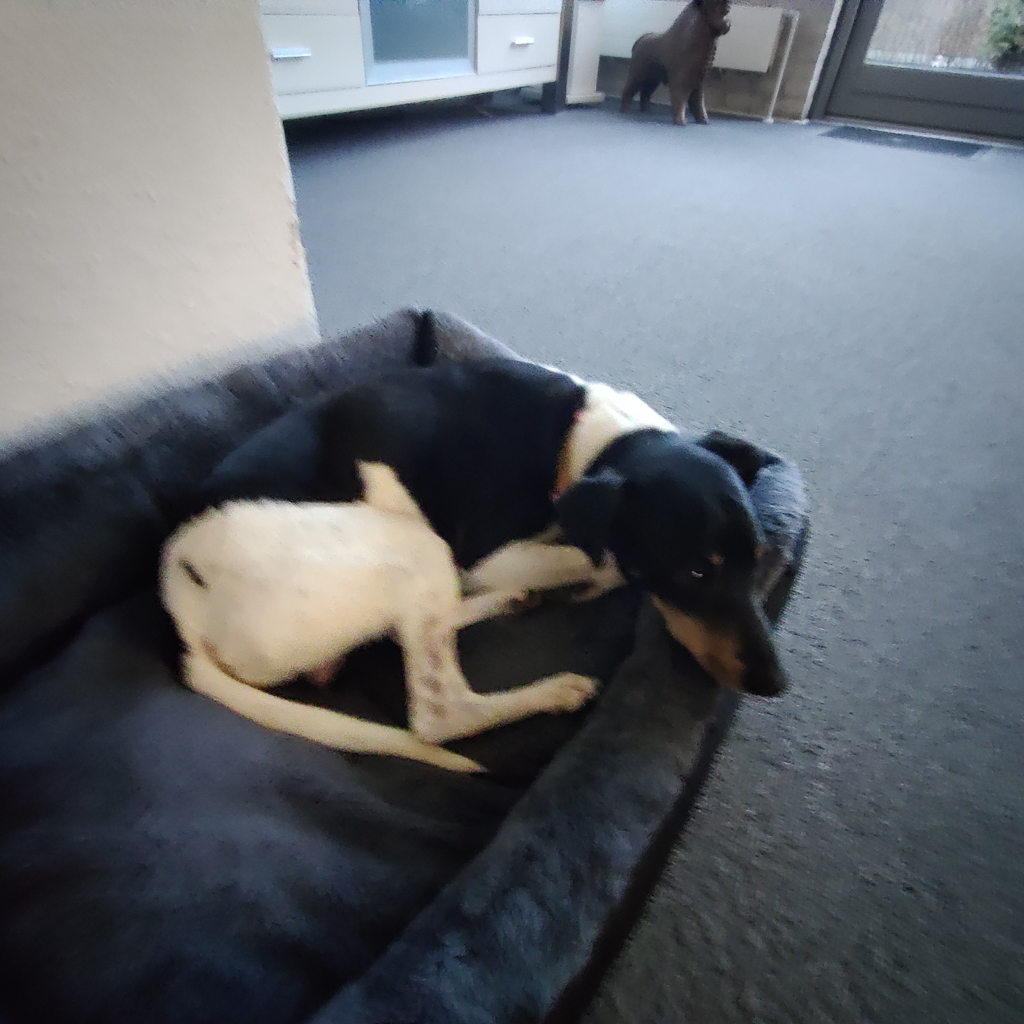Cattle: (603, 0, 738, 132)
Dog: (86, 282, 866, 833)
